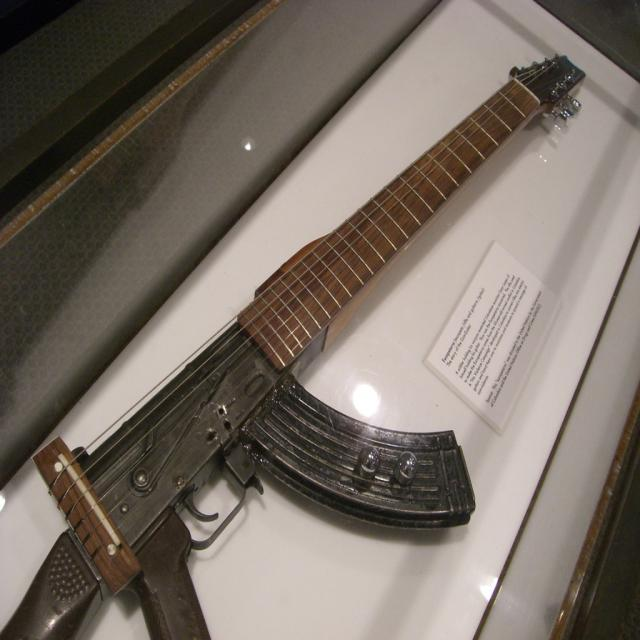weapon: (0, 53, 584, 639)
